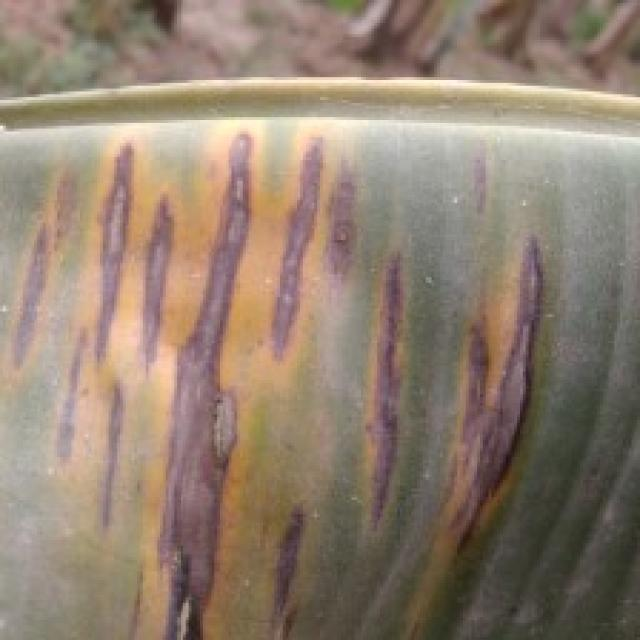Early_leaf_spot: (0, 108, 561, 640)
